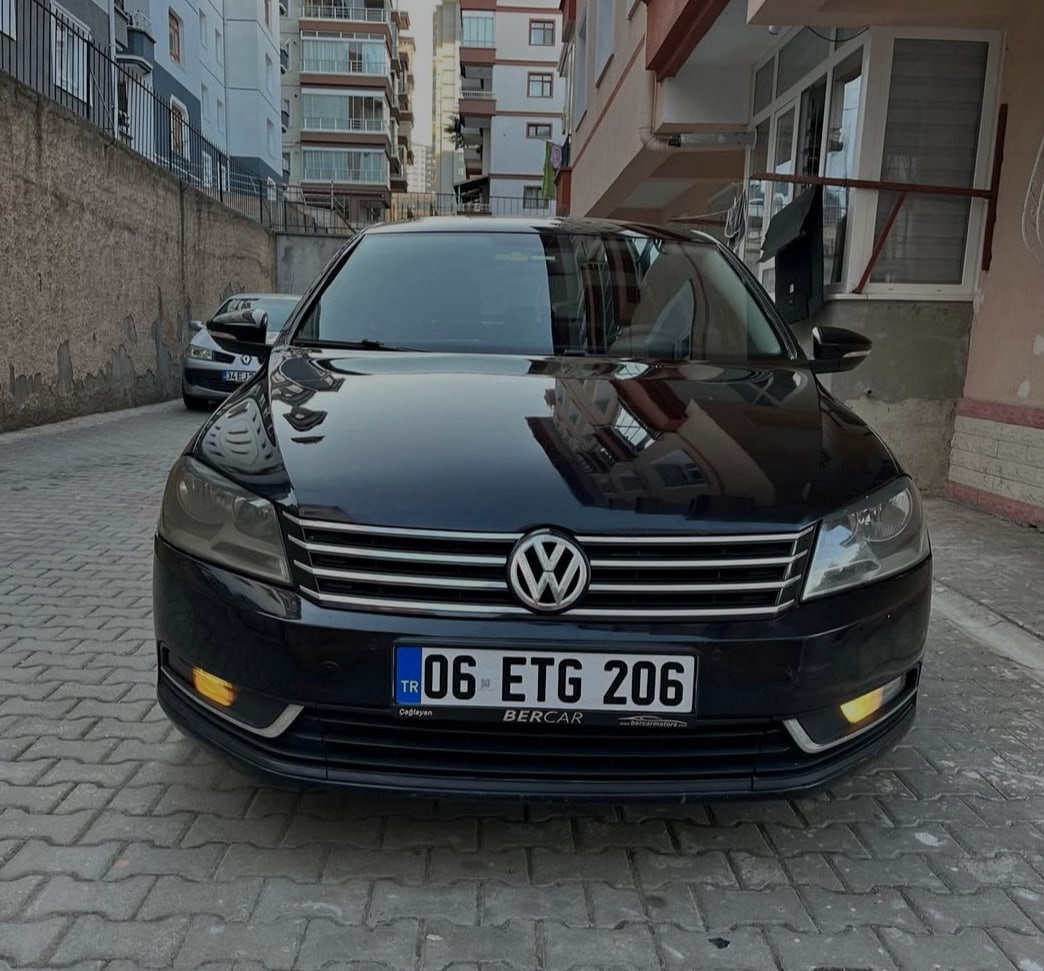plaka: (416, 639, 706, 723)
